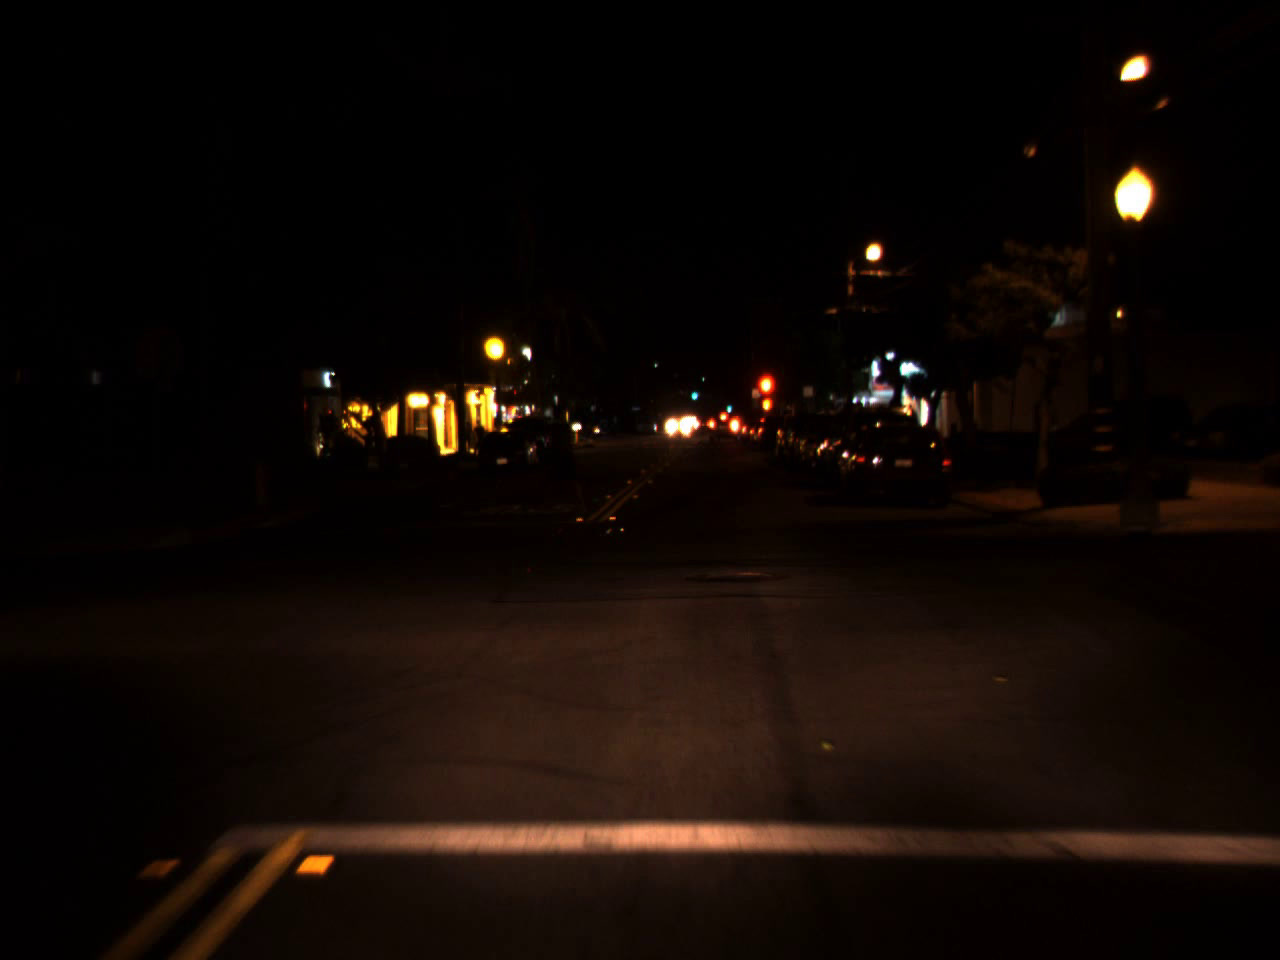go: (689, 385, 698, 400), (724, 397, 733, 412)
stop: (754, 371, 778, 419)
